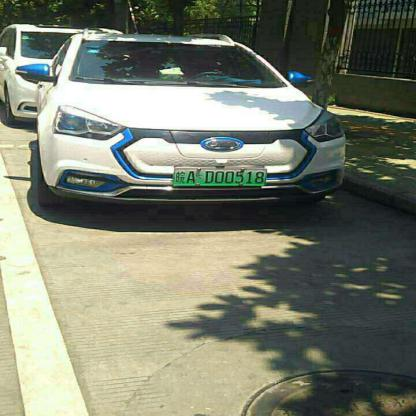lp: (173, 168, 264, 185)
